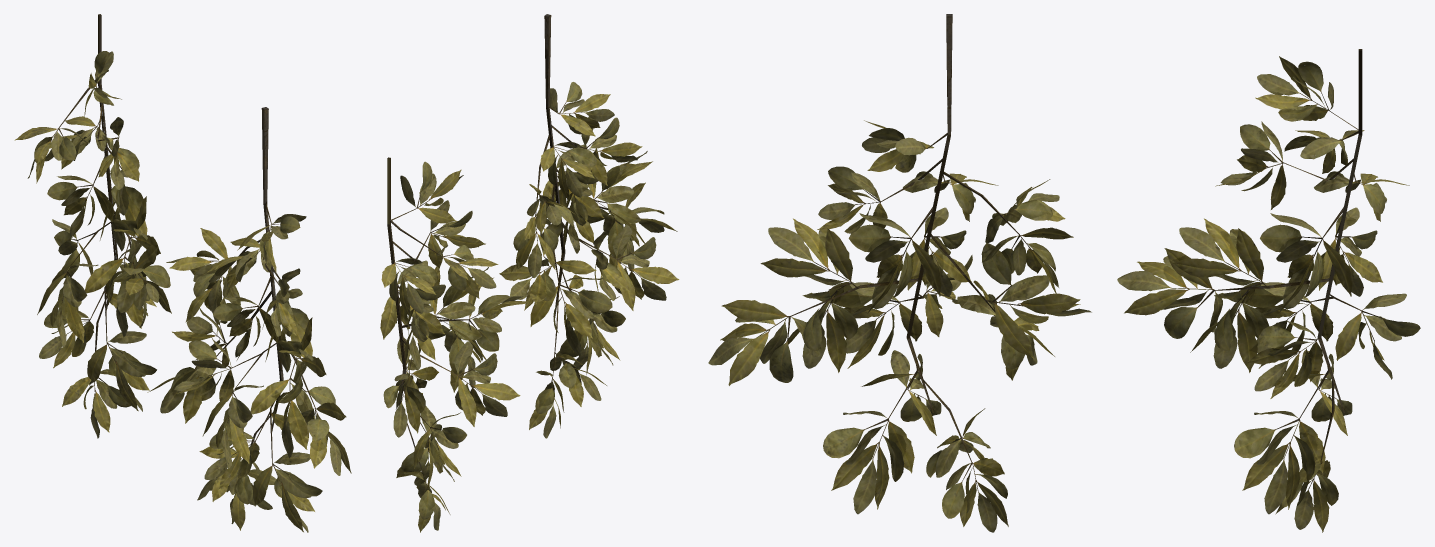
File: Daun salamfbx.fbx
3 renders of one model, left to right at view 1: azimuth 30°, elevation 25°; view 2: azimuth 150°, elevation 25°; view 3: azimuth 270°, elevation 25°, orthographic. The views are drawn at different scales.
Visible parts, largest first — view 1: Object_4; view 2: Object_4; view 3: Object_4.
Boxes of the visible parts, x1,y1,x2,y2 form: Object_4: (14, 14, 351, 532); Object_4: (380, 14, 679, 532); Object_4: (708, 14, 1420, 532).
Size of the model in its own units: 2646 by 9265 by 11272.
